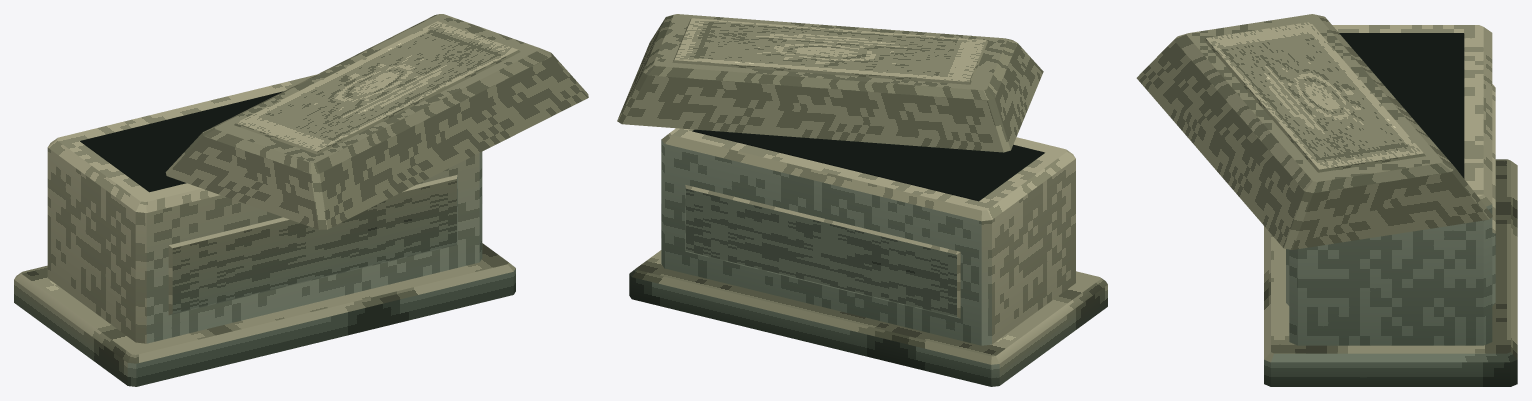
The model's file is relic.sarcophagus__open.glb.
3 renders of one model, left to right at view 1: azimuth 30°, elevation 25°; view 2: azimuth 150°, elevation 25°; view 3: azimuth 270°, elevation 25°, orthographic. The views are drawn at different scales.
Parts seen in each view (by area): view 1: kit_lid, kit_chest, kit_plinth, kit_glyph_bands, kit_interior; view 2: kit_lid, kit_chest, kit_plinth, kit_glyph_bands, kit_interior; view 3: kit_lid, kit_chest, kit_plinth, kit_interior, kit_glyph_bands.
Boxes of the visible parts, bbox=[...] form: kit_lid: bbox=[165, 14, 588, 229]; kit_chest: bbox=[47, 74, 482, 343]; kit_plinth: bbox=[14, 243, 515, 386]; kit_glyph_bands: bbox=[168, 175, 457, 315]; kit_interior: bbox=[80, 91, 283, 192]; kit_lid: bbox=[617, 14, 1043, 152]; kit_chest: bbox=[661, 128, 1075, 345]; kit_plinth: bbox=[629, 250, 1107, 386]; kit_glyph_bands: bbox=[685, 185, 960, 318]; kit_interior: bbox=[692, 129, 1044, 201]; kit_lid: bbox=[1136, 14, 1492, 249]; kit_chest: bbox=[1289, 25, 1492, 345]; kit_plinth: bbox=[1264, 159, 1517, 386]; kit_interior: bbox=[1339, 33, 1464, 178]; kit_glyph_bands: bbox=[1286, 84, 1495, 305].
Bounding box in the file's own units: 3.39 × 1.5 × 2.26.
Materials: 6 (6 with a texture image).
